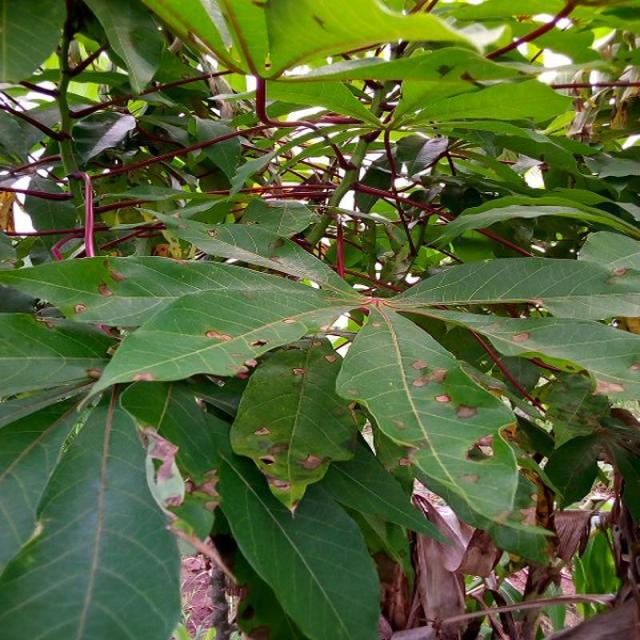cassava leaf: (0, 1, 638, 637), (0, 388, 182, 637), (334, 299, 520, 531), (228, 334, 358, 513)
